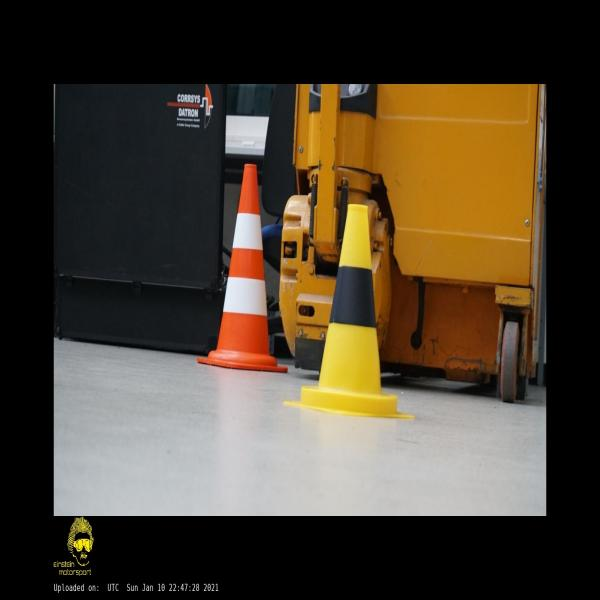large_orange_cone: (197, 163, 287, 372)
yellow_cone: (284, 204, 415, 418)
